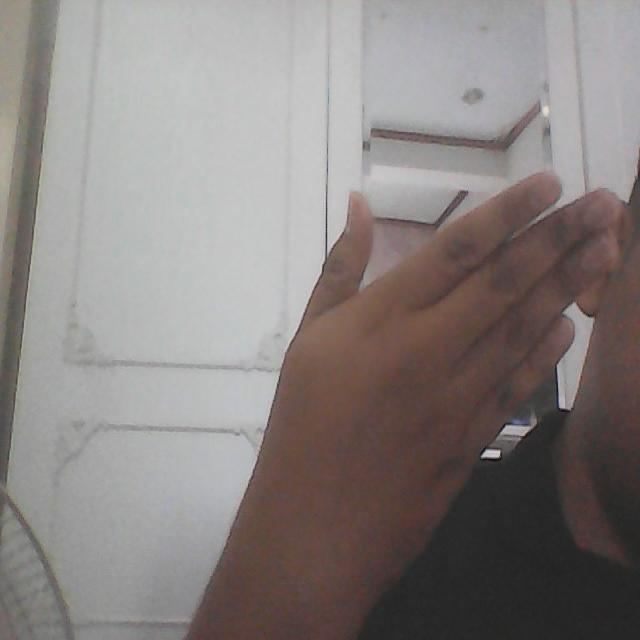hand: (254, 173, 620, 640)
